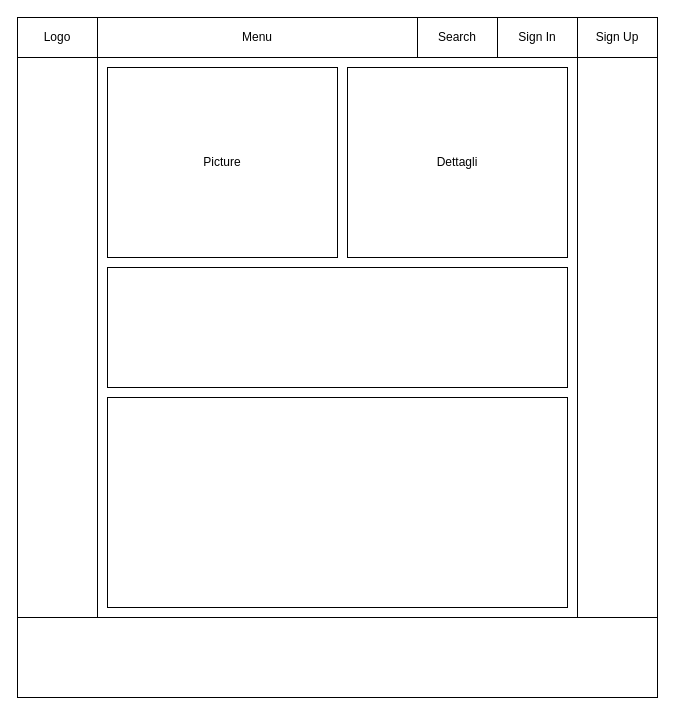
This 675x715 diagram has some shape labels left out. The shapes that lost their labels are listed below. From the top down, each one's centre as x and y in pixels, then its label:
point 337,327: Descrizione evento
point 337,502: Mappa
point 337,657: Footer
